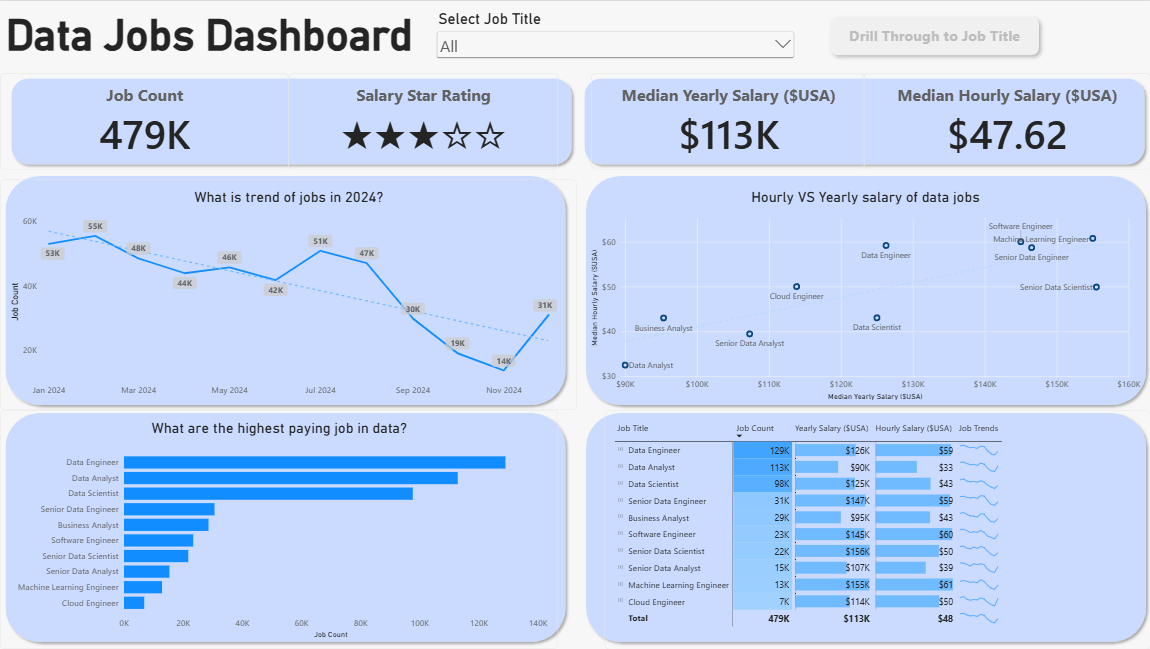

The dashboard page shown, as its layout file describes it:
{"tool":"powerbi","page":{"name":"Data Jobs Dashboard ","canvas":[1920,1080],"ordinal":0},"visuals":[{"type":"group","id":"g1","title":"Background","box":[0,120.4,1919.3,958.5],"z":0},{"type":"shape","box":[9.1,120.4,951.7,161.3],"z":0,"group":"g1"},{"type":"textbox","box":[9.1,15.9,688.2,86.3],"z":1000},{"type":"shape","box":[965.3,120.4,951.7,161.3],"z":1000,"group":"g1"},{"type":"slicer","fields":{"Values":["job_postings_flat.job_title_short"]},"box":[722.3,15.9,606.4,124.9],"z":2000},{"type":"shape","box":[0,281.7,951.7,399.8],"z":2000,"group":"g1"},{"type":"cardVisual","fields":{"Data":["CountNonNull(job_postings_flat.job_title_short)"]},"box":[0,120.4,481.5,161.3],"z":3000},{"type":"shape","box":[0,679.1,951.7,399.8],"z":3000,"group":"g1"},{"type":"cardVisual","fields":{"Data":["job_postings_flat.Salary Star Rating"]},"box":[480.8,120.8,450,161.1],"z":4000},{"type":"shape","box":[967.6,281.7,951.7,399.8],"z":4000,"group":"g1"},{"type":"cardVisual","fields":{"Data":["Median(job_postings_flat.salary_year_avg)"]},"box":[985.3,120.8,457.1,161.1],"z":5000},{"type":"shape","box":[967.6,679.1,951.7,399.8],"z":5000,"group":"g1"},{"type":"cardVisual","fields":{"Data":["Median(job_postings_flat.salary_hour_avg)"]},"box":[1437.7,120.4,481.5,161.3],"z":6000},{"type":"lineChart","title":"What is trend of jobs in 2024?","fields":{"Category":["job_postings_flat.job_posted_date.Variation.Date Hierarchy.Year","job_postings_flat.job_posted_date.Variation.Date Hierarchy.Quarter","job_postings_flat.job_posted_date.Variation.Date Hierarchy.Month","job_postings_flat.job_posted_date.Variation.Date Hierarchy.Day"],"Y":["CountNonNull(job_postings_flat.job_title_short)"]},"box":[0,298.4,961.6,383.7],"z":7000},{"type":"barChart","title":"What are the highest paying job in data?","fields":{"Category":["job_postings_flat.job_title_short"],"Y":["CountNonNull(job_postings_flat.job_title_short)"]},"box":[0,682.5,930,397.5],"z":8000},{"type":"scatterChart","title":"Hourly VS Yearly salary of data jobs","fields":{"Series":["job_postings_flat.job_title_short"],"X":["Median(job_postings_flat.salary_year_avg)"],"Y":["Median(job_postings_flat.salary_hour_avg)"]},"box":[966.3,298.4,949.7,383.7],"z":9000},{"type":"pivotTable","fields":{"Rows":["job_postings_flat.job_title_short","job_postings_flat.job_posted_date.Variation.Date Hierarchy.Quarter"],"Values":["CountNonNull(job_postings_flat.job_title_short)","Median(job_postings_flat.salary_year_avg)","Median(job_postings_flat.salary_hour_avg)","SparklineData(CountNonNull(job_postings_flat.job_title_short)_[job_postings_flat.job_posted_date.Variation.Date Hierarch"]},"box":[1008,682,910,398],"z":10000},{"type":"actionButton","box":[1371.9,15.9,370.2,86.3],"z":11000}]}

Visuals, with their boxes in screenshot pixels (x1, y1, x2, y2), scaled from the page's 1920x1080 canvas onto the 1150x649 screenshot:
"Background" group: {"left": 0, "top": 72, "right": 1149, "bottom": 648}
shape: {"left": 5, "top": 72, "right": 575, "bottom": 169}
textbox: {"left": 5, "top": 10, "right": 418, "bottom": 61}
shape: {"left": 578, "top": 72, "right": 1148, "bottom": 169}
slicer - job_postings_flat.job_title_short: {"left": 433, "top": 10, "right": 796, "bottom": 85}
shape: {"left": 0, "top": 169, "right": 570, "bottom": 410}
cardVisual - CountNonNull(job_postings_flat.job_title_short): {"left": 0, "top": 72, "right": 288, "bottom": 169}
shape: {"left": 0, "top": 408, "right": 570, "bottom": 648}
cardVisual - job_postings_flat.Salary Star Rating: {"left": 288, "top": 73, "right": 558, "bottom": 169}
shape: {"left": 580, "top": 169, "right": 1149, "bottom": 410}
cardVisual - Median(job_postings_flat.salary_year_avg): {"left": 590, "top": 73, "right": 864, "bottom": 169}
shape: {"left": 580, "top": 408, "right": 1149, "bottom": 648}
cardVisual - Median(job_postings_flat.salary_hour_avg): {"left": 861, "top": 72, "right": 1149, "bottom": 169}
"What is trend of jobs in 2024?" lineChart: {"left": 0, "top": 179, "right": 576, "bottom": 410}
"What are the highest paying job in data?" barChart: {"left": 0, "top": 410, "right": 557, "bottom": 648}
"Hourly VS Yearly salary of data jobs" scatterChart: {"left": 579, "top": 179, "right": 1148, "bottom": 410}
pivotTable - job_postings_flat.job_title_short x job_postings_flat.job_posted_date.Variation.Date Hierarchy.Quarter: {"left": 604, "top": 410, "right": 1149, "bottom": 648}
actionButton: {"left": 822, "top": 10, "right": 1043, "bottom": 61}
